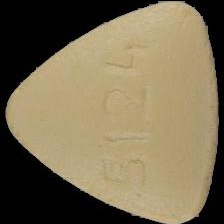0093-5124: (0, 0, 224, 224)
